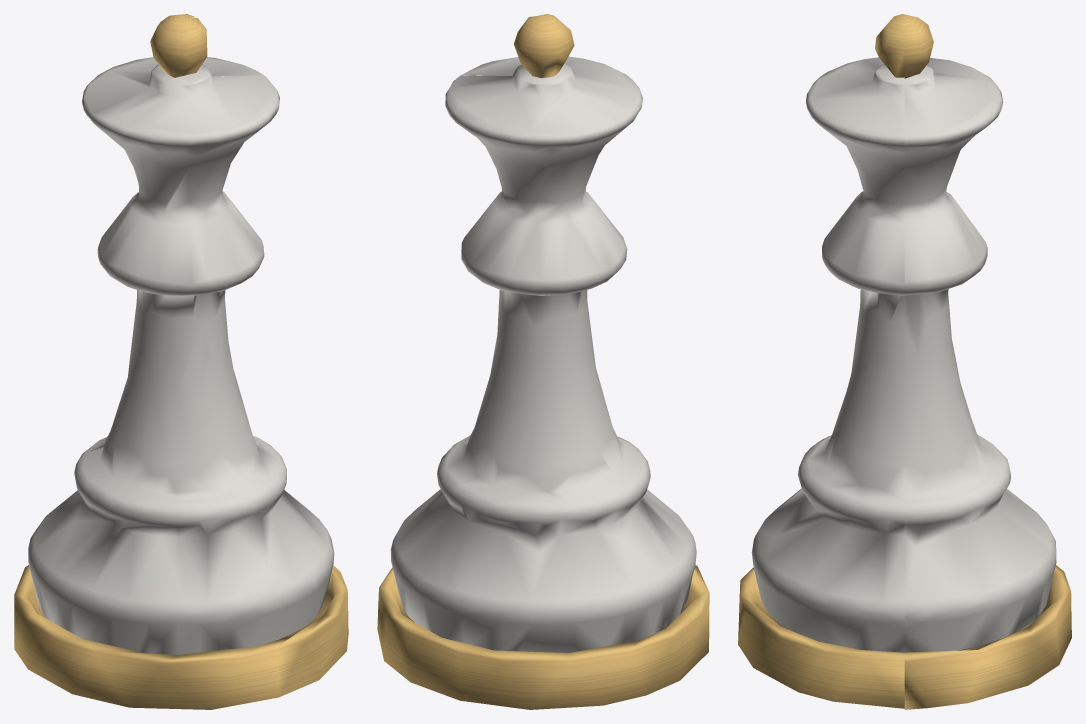
File: aurum_queen_white.glb
3 renders of one model, left to right at view 1: azimuth 30°, elevation 25°; view 2: azimuth 150°, elevation 25°; view 3: azimuth 270°, elevation 25°, orthographic.
Visible parts, largest first — view 1: Aurum Ivoire – Queen; view 2: Aurum Ivoire – Queen; view 3: Aurum Ivoire – Queen.
Boxes of the visible parts, x1,y1,x2,y2 form: Aurum Ivoire – Queen: (14,14,348,709); Aurum Ivoire – Queen: (377,14,709,709); Aurum Ivoire – Queen: (738,14,1071,709).
Bounding box in the file's own units: 0.0447 × 0.092 × 0.0447.
Materials: 2 (1 with a texture image).
